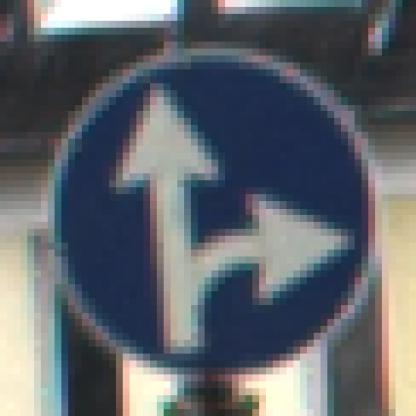Straight or Right: (35, 43, 383, 382)
